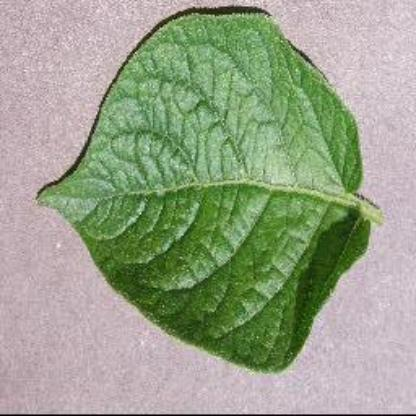Healthy-plant: (30, 3, 393, 390)
